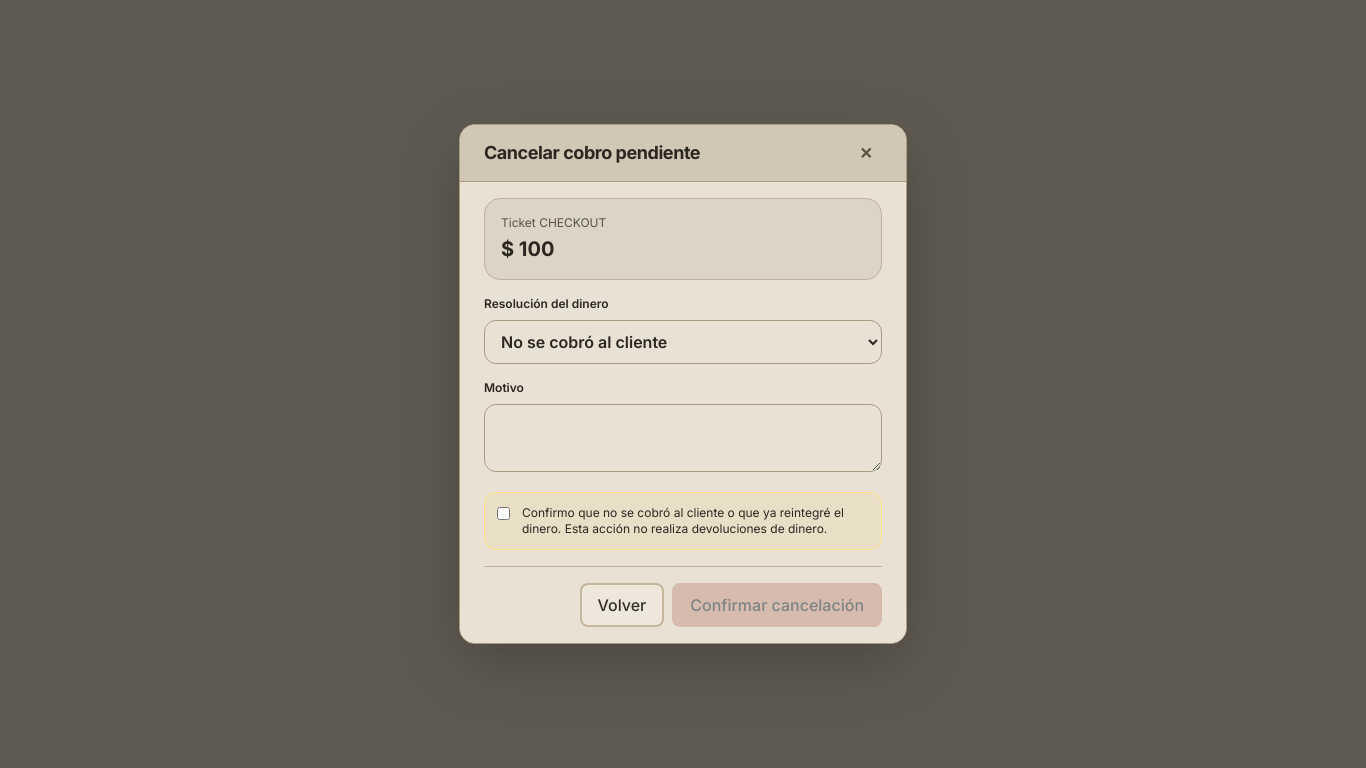
Test: mantiene abierto y conserva los datos si el servidor no confirma
Type "No se cobró la venta" into the text box named "Motivo de cancelación" at (683, 438), box [484, 404, 882, 472]
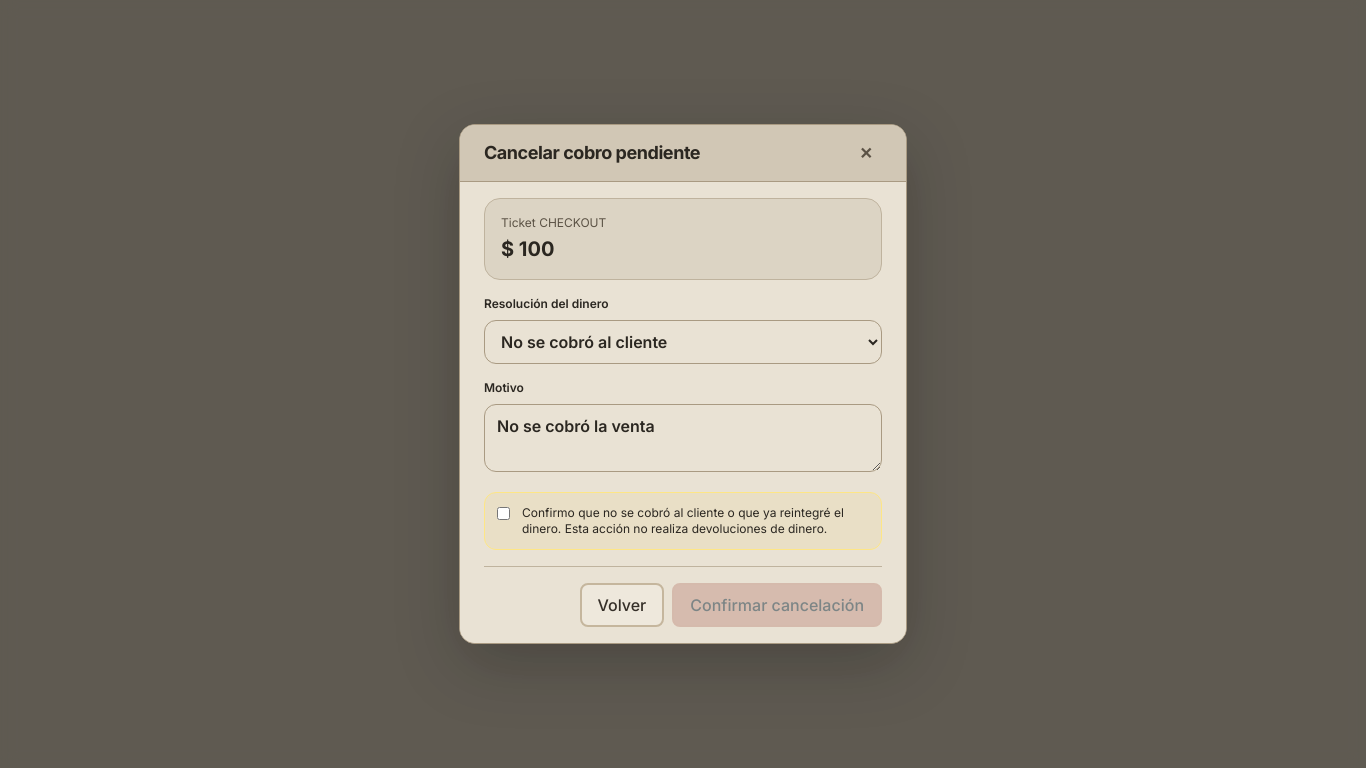
Click the checkbox at (504, 513), box [497, 507, 510, 520]
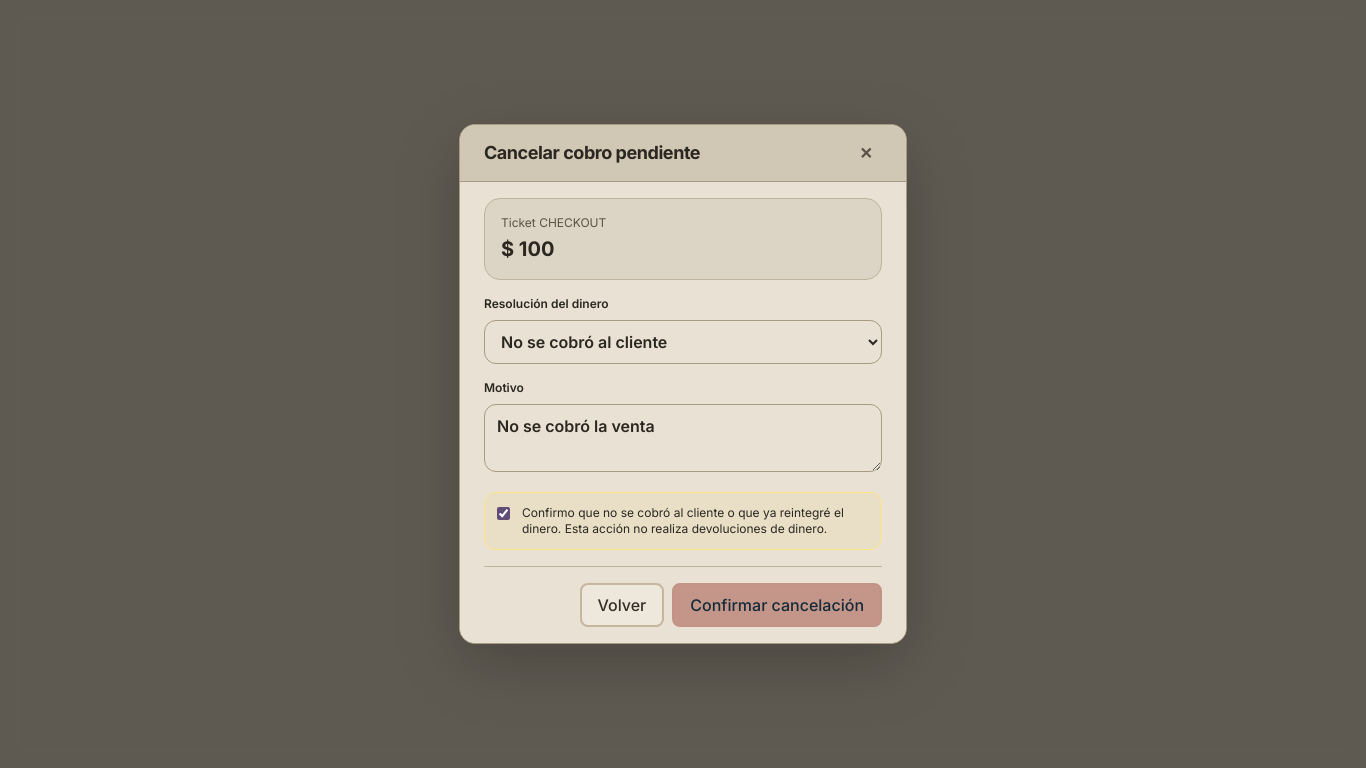
Click the button "Confirmar cancelación" at (777, 605), box [672, 583, 882, 627]
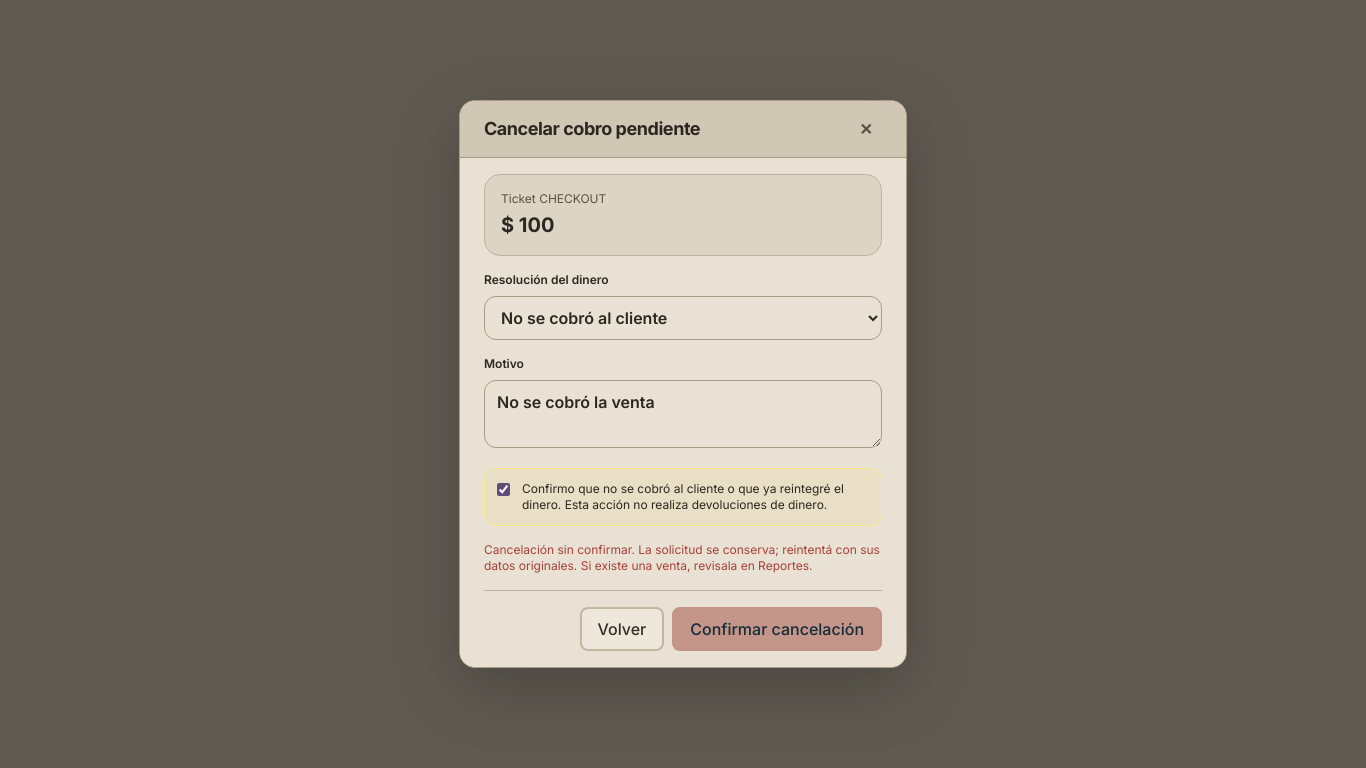
expect the message is shown: met, box [484, 542, 882, 574]
